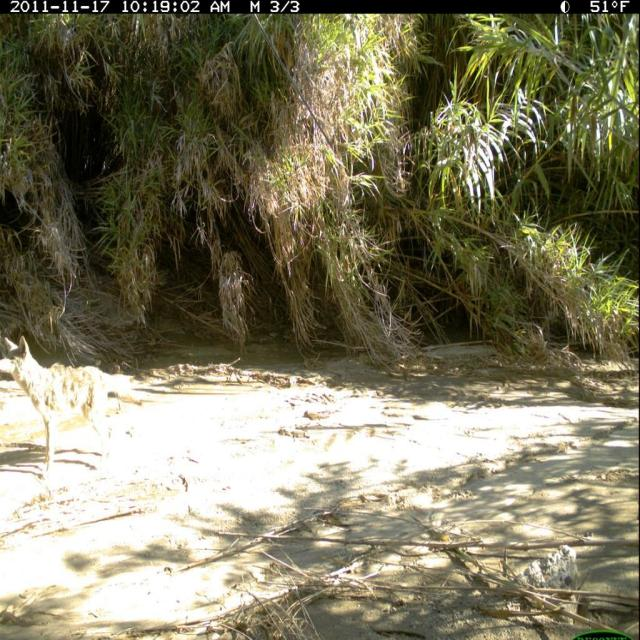coyote: (1, 334, 149, 490)
